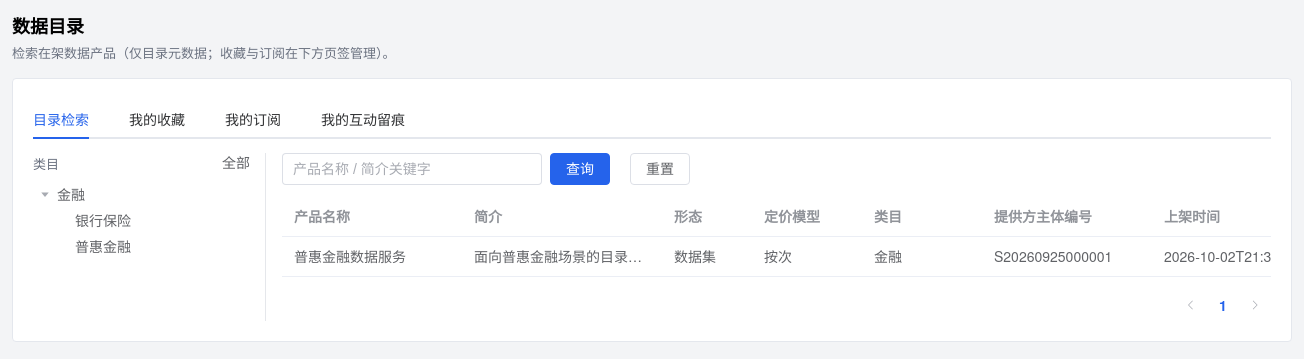
it: 我的收藏 / 我的订阅（T8） › 收藏页签翻页：按新页码重新拉取
The image size is (1304, 359).
Click the tab with id "tab-favorites" at (157, 119), box [129,109,185,129]
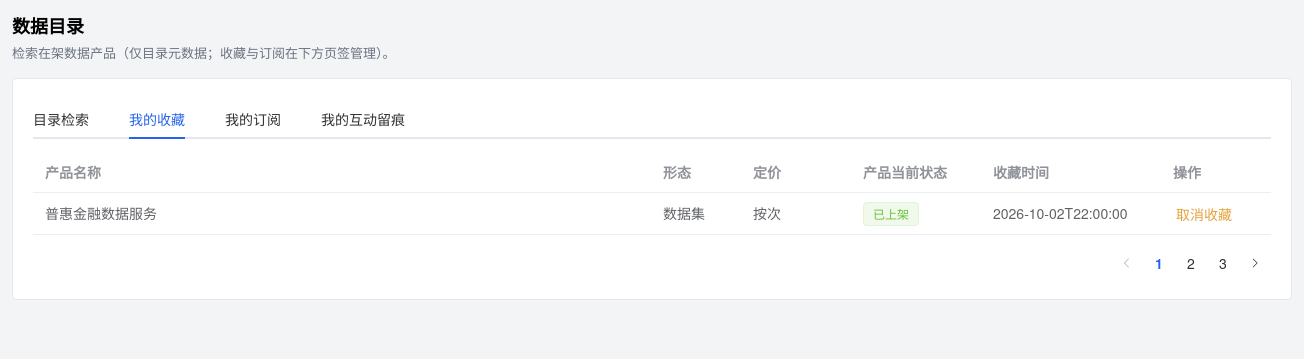
Click the button with class "btn-next" at (1255, 263), box [1239,247,1271,279]
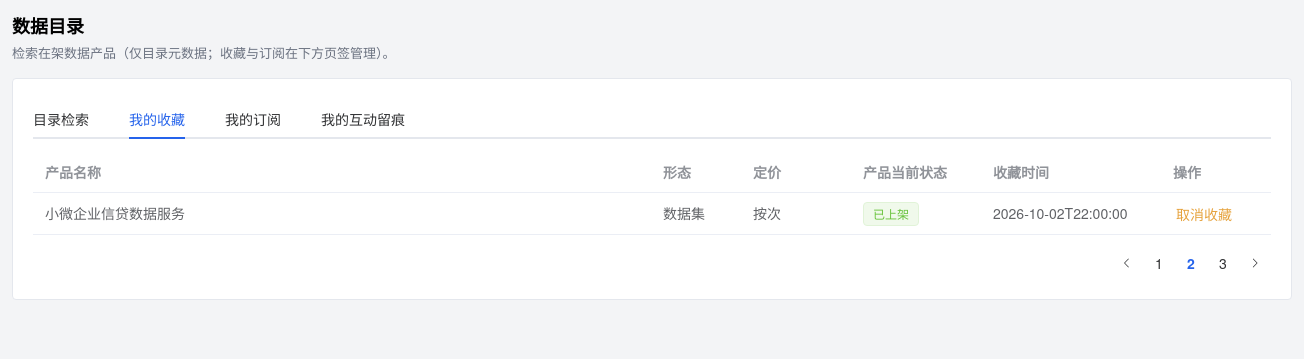
Expected: the text "小微企业信贷数据服务" is shown, [45,203,185,223]
